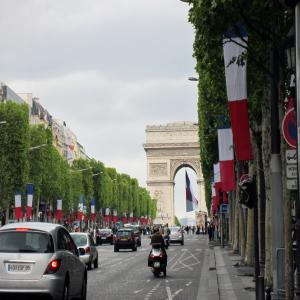Vehicle-registration-plate: (9, 265, 31, 274), (156, 264, 161, 268), (122, 239, 129, 241), (172, 239, 178, 241)
